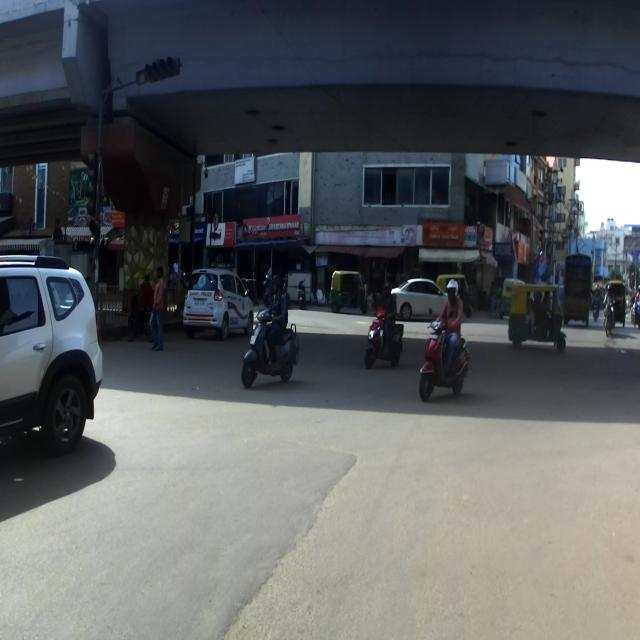car ahead at: (0, 248, 108, 462), (184, 261, 254, 339)
motorcycle ahead at: (240, 307, 304, 389), (415, 312, 470, 404)
